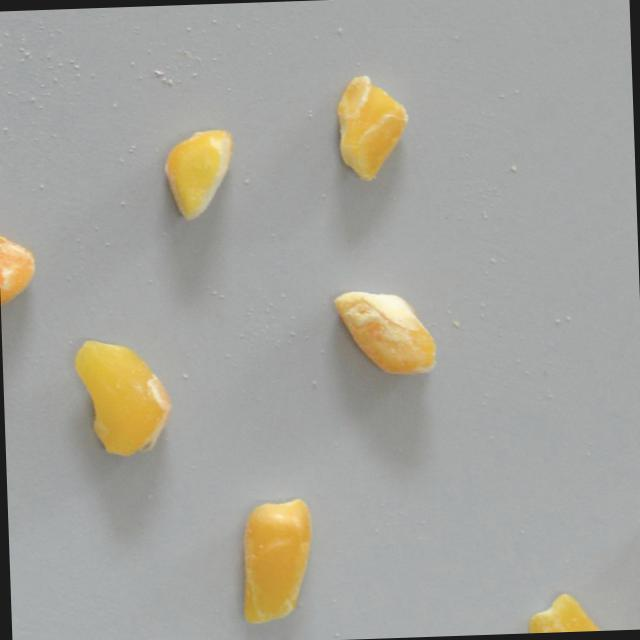pelicula: (72, 335, 173, 460), (232, 497, 315, 625), (332, 287, 437, 378), (331, 74, 411, 185), (160, 129, 236, 222), (526, 589, 640, 633), (0, 219, 37, 315)
